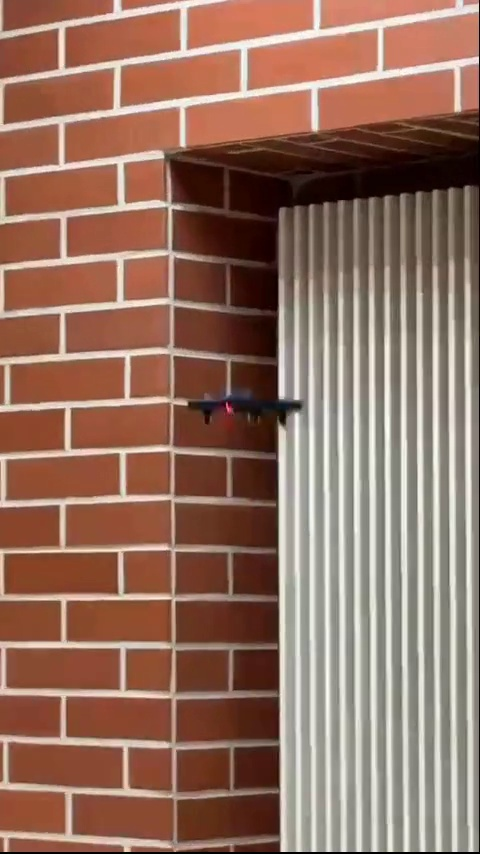drone: (187, 388, 303, 434)
